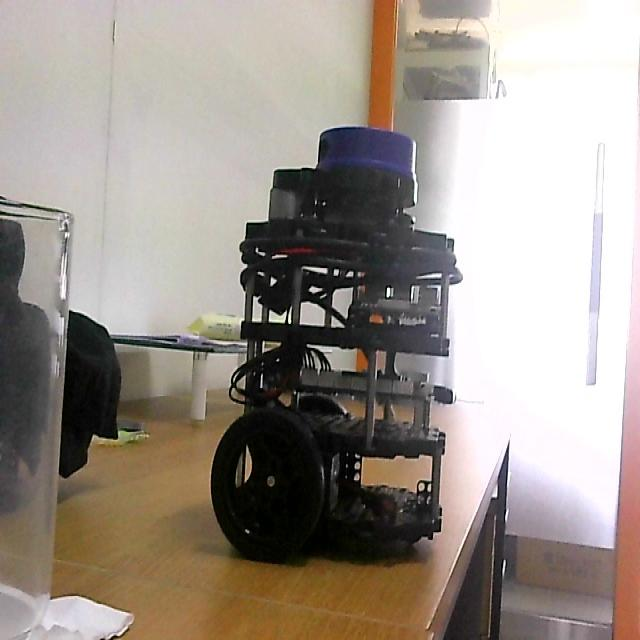turtle: (209, 125, 465, 566)
